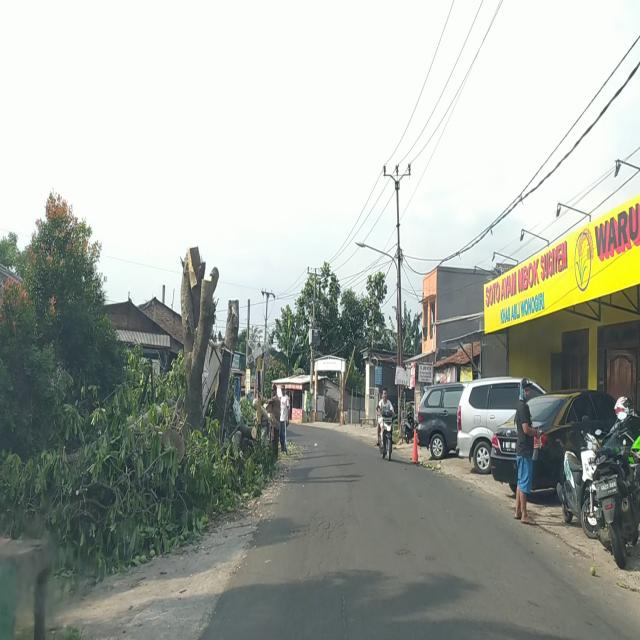Drain Hole: (288, 509, 346, 548)
